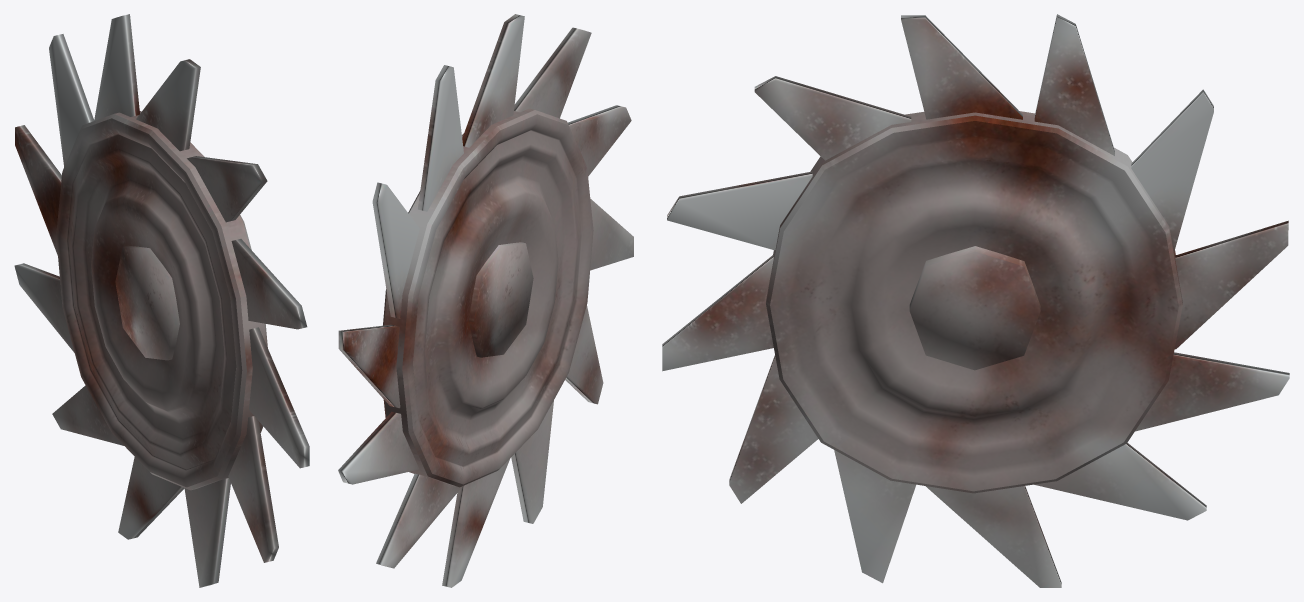
The model's file is trap_movingSaw_circularSaw.FBX.
The picture shows the model from 3 angles, left to right: view 1: azimuth 30°, elevation 25°; view 2: azimuth 150°, elevation 25°; view 3: azimuth 270°, elevation 25°; orthographic projection. The views are drawn at different scales.
Visible parts, largest first — view 1: polySurface375; view 2: polySurface375; view 3: polySurface375.
Boxes of the visible parts, <box> form: polySurface375: <box>14,14,309,587</box>; polySurface375: <box>338,14,633,587</box>; polySurface375: <box>662,14,1289,587</box>.
Size of the model in its own units: 16.55 by 194 by 194.
1 material, 1 textured.
